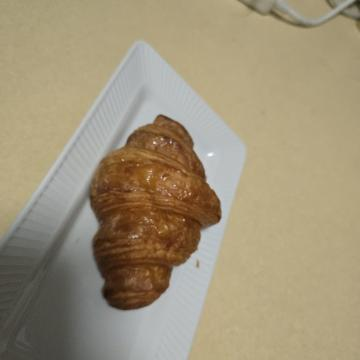croissant: (102, 122, 326, 278)
